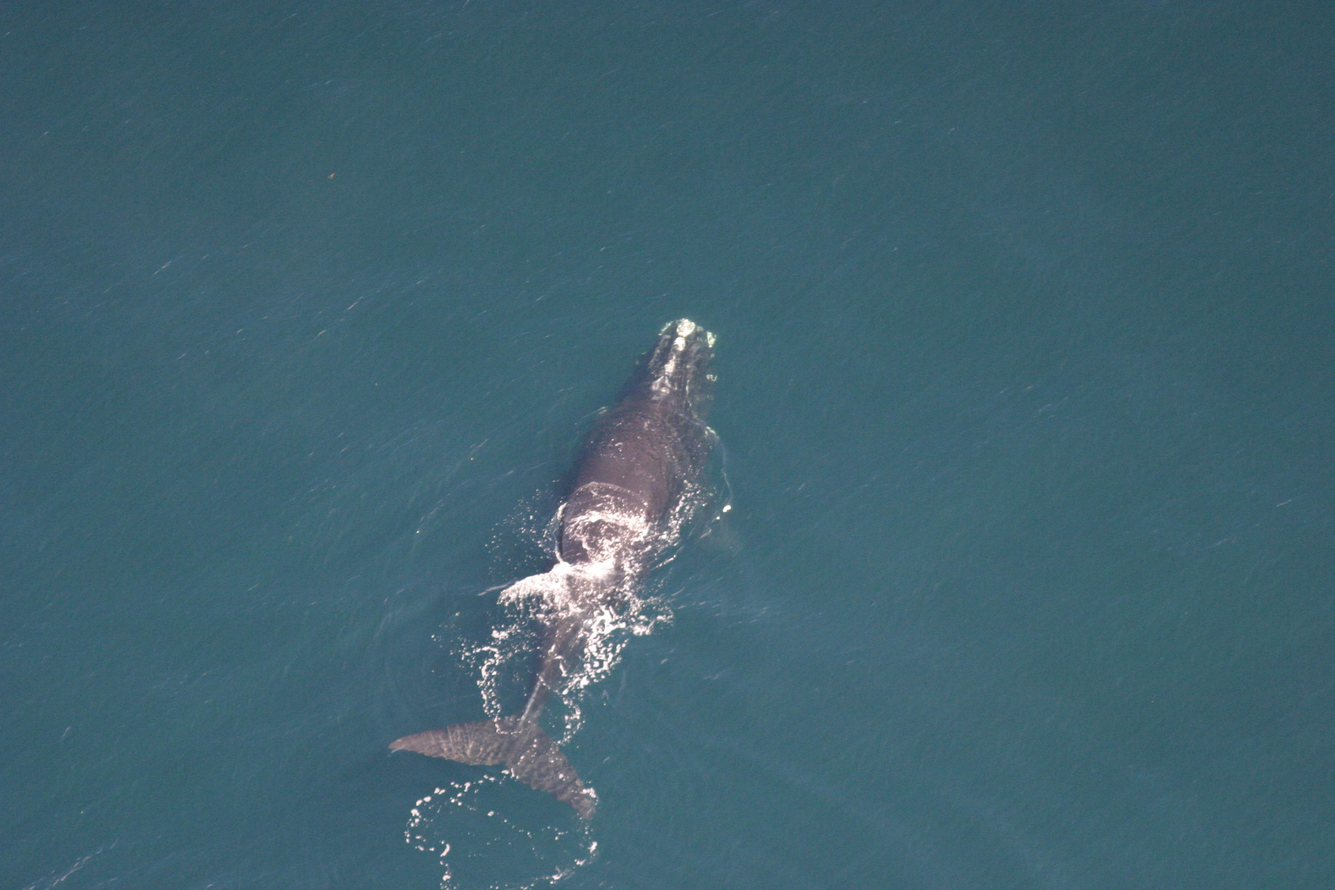whale: (381, 310, 749, 831)
